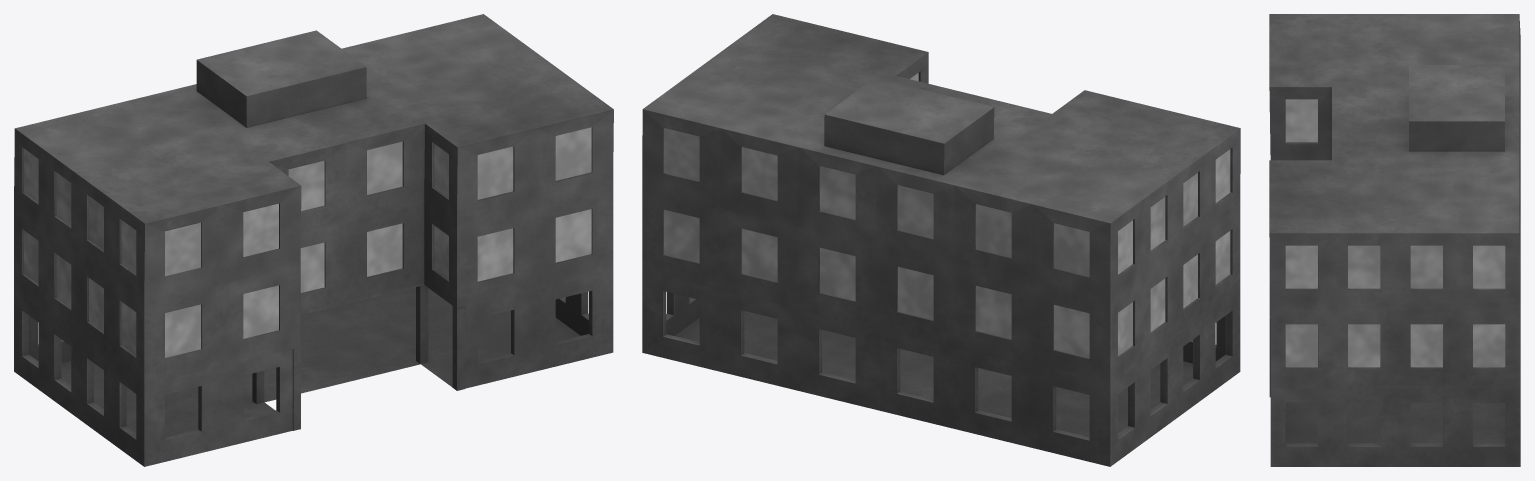
The model's file is building_3_2.fbx.
3 views of the same model, side by side, from view 1: azimuth 30°, elevation 25°; view 2: azimuth 150°, elevation 25°; view 3: azimuth 270°, elevation 25° (orthographic). The views are drawn at different scales.
Visible parts, largest first — view 1: building3; view 2: building3; view 3: building3.
Boxes of the visible parts, left/top/right/bottom form: building3: left=14, top=14, right=613, bottom=466; building3: left=642, top=14, right=1240, bottom=466; building3: left=1269, top=14, right=1520, bottom=466.
Bounding box in the file's own units: 18.01 × 10.1 × 8.7.
1 material, 1 textured.
